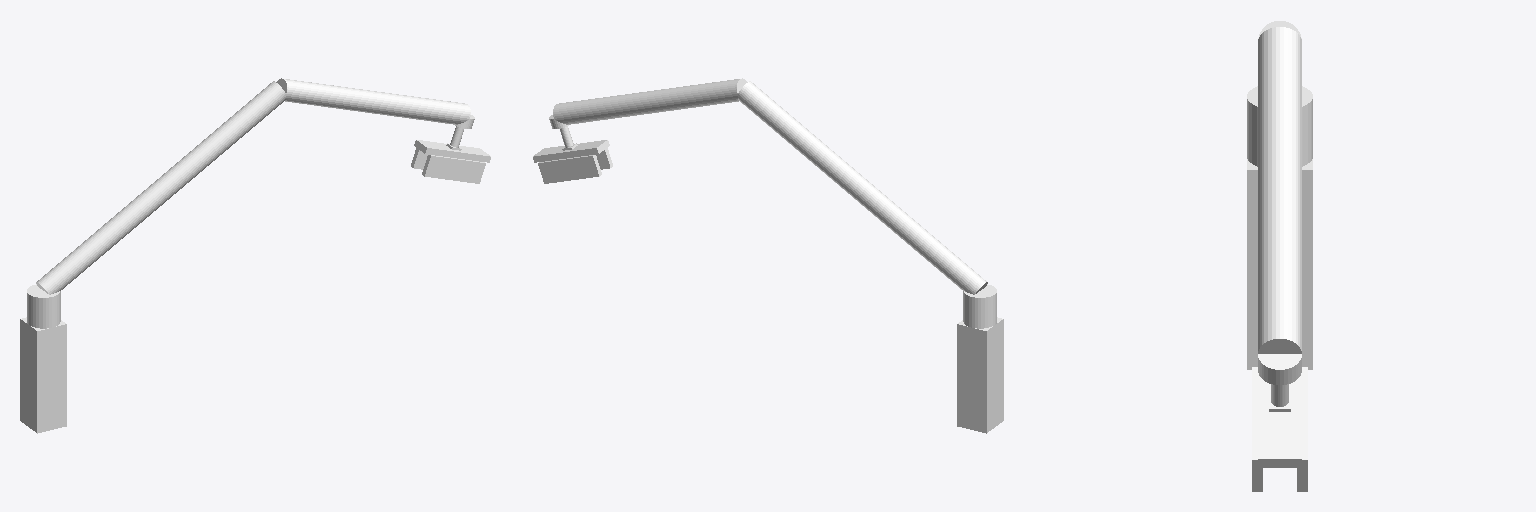
The robot description file, URDF, robot "crane":
<?xml version="1.0"?>
<robot name="crane">

  <material name="white">
    <color rgba="1 1 1 1"/>
  </material>

	<!-- Arm of the crane -->

	<link name="base_link">
		<visual>
			<geometry>
				<box size="1.5 1.5 5"/>
			</geometry>
			<origin xyz="0 0 2.5"/>
			<material name="white"/>
		</visual>
		<collision>
			<geometry>
				<box size="1.5 1.5 5"/>
			</geometry>
			<origin xyz="0 0 2.5"/>
		</collision>
		
	</link>

	
	<joint name="base_to_link1" type="continuous">
		<axis xyz="0 0 1"/>
		<parent link="base_link"/>
		<child link="link1"/>
		<origin xyz="0 0 5"/>
	</joint>
	
	<link name="link1">
		<visual>
			<geometry>
				<cylinder length="1.5" radius="0.75"/>
			</geometry>
			<origin rpy="0 0 0" xyz="0 0 0.75"/>
			<material name="white"/>
		</visual>
		<collision>
			<geometry>
				<cylinder length="1.5" radius="0.75"/>
			</geometry>
			<origin rpy="0 0 0" xyz="0 0 0.75"/>
		</collision>
	</link>
	
	<joint name="link1_to_link2" type="revolute">
		<axis xyz="0 0 1"/>
		<limit effort="1000" upper="-0.175"  lower= "-0.873" velocity="1"/>
		<parent link="link1"/>
		<child link="link2"/>
		<origin rpy="-1.5707963 0 0" xyz="0 0 1.5"/>
	</joint>
	
  
	<link name="link2">
		<visual>
			<geometry>
				<cylinder length="12" radius="0.5"/>
			</geometry>
			<origin rpy="0 -1.5707963 0" xyz="6 0 0"/>
			<material name="white"/>
		</visual>
		<collision>
			<geometry>
				<cylinder length="12" radius="0.5"/>
			</geometry>
			<origin rpy="0 -1.5707963 0" xyz="6 0 0"/>
		</collision>
	</link>
	
	<joint name="Link2_to_link3" type="revolute">
		<axis xyz="0 0 1"/>
		<limit effort="1000" lower="0" upper = "1.5707963" velocity="1"/>
		<parent link="link2"/>
		<child link="link3"/>
		<origin xyz="12 0 0"/>
	</joint>
	
	<link name="link3">
		<visual>
			<geometry>
				<cylinder length="2" radius="0.5"/>
			</geometry>
			<origin rpy="0 -1.5707963 0" xyz="1 0 0"/>
			<material name="white"/>
		</visual>
		<collision>
			<geometry>
				<cylinder length="2" radius="0.5"/>
			</geometry>
			<origin rpy="0 -1.5707963 0" xyz="1 0 0"/>
		</collision>
	</link>

	<joint name ="Link3_to_Link4" type="revolute">
		<axis xyz="0 0 1"/>
		<limit effort="1000" lower="0.175" upper="1.5707963" velocity = "1"/>
		<parent link="link3"/>
		<child link="link4"/>
		<origin xyz="2 0 0"/>
	</joint>
	
	<link name ="link4">
		<visual>
			<geometry>
				<cylinder length="10" radius="0.5"/>
			</geometry>
			<origin rpy="0 -1.5707936 0" xyz="5 0 0"/>
			<material name="white"/>
		</visual>
		<collision>
			<geometry>
				<cylinder length="10" radius="0.5"/>
			</geometry>
			<origin rpy="0 -1.5707936 0" xyz="5 0 0"/>
		</collision>
	</link>
	
	<joint name="Link4_to_Link5" type="revolute">
		<axis xyz="0 0 1"/>
		<limit effort="1000" lower="-3.14" upper ="0.23" velocity="1"/>
		<parent link="link4"/>
		<child link="link5"/>
		<origin xyz="10 0 0"/>
	</joint>
	
	<link name="link5">
		<visual>
			<geometry>
				<cylinder length="0.5" radius="0.5"/>
			</geometry>
			<origin rpy="-1.5707936 -1.5707936 0" xyz="0 0.25 0"/>
			<material name="white"/>
		</visual>
		<collision>
			<geometry>
				<cylinder length="0.5" radius="0.5"/>
			</geometry>
			<origin rpy="-1.5707936 -1.5707936 0" xyz="0 0.25 0"/>
		</collision>
	</link>

	<joint name="link5_to_link6" type="continuous">
		<axis xyz="0 0 1"/>
		<parent link="link5"/>
		<child link="link6"/>
		<origin rpy="-1.5707936 0 0" xyz="0 0.5 0"/>
	</joint>
	
	<link name="link6">
		<visual>
			<geometry>
				<cylinder length="1.0" radius="0.2"/>
			</geometry>
			<origin xyz="0 0 0.5"/>
			<material name="white"/>
		</visual>
		<collision>
			<geometry>
				<cylinder length="1.0" radius="0.2"/>
			</geometry>
			<origin xyz="0 0 0.5"/>
		</collision>
	</link>
	
	<joint name="link6_to_link7" type="revolute">
		<axis xyz="0 1 0"/>
		<limit effort="1000" lower="-0.05" upper ="0.05" velocity="1"/>
		<parent link="link6"/>
		<child link="link7"/>
		<origin xyz="0 0 1"/>
	</joint>

	<link name="link7">
		<visual>
			<geometry>
				<box size="0.5 0.5 0.1"/>
			</geometry>
			<origin xyz="0 0 0.05"/>
			<material name="white"/>
		</visual>
		<collision>
			<geometry>
				<box size="0.5 0.5 0.1"/>
			</geometry>
			<origin xyz="0 0 0.05"/>
		</collision>
	</link>

	<link name="link8"/>
	<joint name="link7_to_link8" type="fixed">
        <parent link="link7" />
        <child link="link8" />
        <origin rpy="0 0 0" xyz="0 0 0.1" />
		<axis xyz="0 0 0"/>
    </joint>

    <joint name="link8_to_gripper" type="fixed">
        <parent link="link8" />
        <child link="gripper_base" />
        <origin rpy="0 0 0" xyz="0 0 0" />
    </joint>
	<!-- Start of gripper -->

	<link name="gripper_base">
		<visual>
			<geometry>
				<box size="3.5 1 0.3"/>
			</geometry>
			<origin xyz="0 0 0.15"/>
			<material name="white"/>
		</visual>
		<collision>
			<geometry>
				<box size="3.5 1 0.3"/>
			</geometry>
			<origin xyz="0 0 0.15"/>
		</collision>
	</link>
	
	<!-- Gripper in the front -->
	
	<joint name="gbase_to_lg" type="prismatic">
		<axis xyz="0 1 0"/>
		<limit effort="1000" lower="0" upper ="0.25" velocity="1"/>
		<parent link="gripper_base"/>
		<child link="lgripper"/>
		<origin  xyz="0 -0.5 0.3"/>
	</joint>

	<link name="lgripper">
		<visual>
			<geometry>
				<box size="3 0.25 1"/>
			</geometry>
			<origin xyz="0 0 0.5"/>
			<material name="white"/>
		</visual>
		<collision>
			<!-- <geometry>
				<box size="1 0.15 0.5"/>
			</geometry>
			<origin xyz="0.5 0 0"/> -->
			<geometry>
				<box size="3 0.25 1"/>
			</geometry>
			<origin xyz="0 0 0.5"/>			
		</collision>
	</link>

	

	<joint name="gbase_to_rg" type="prismatic">
		<axis xyz="0 -1 0"/>
		<limit effort="1000" lower="0" upper ="0.25" velocity="1"/>
		<parent link="gripper_base"/>
		<child link="rgripper"/>
		<origin xyz="0 0.5 0.3"/>
	</joint>

	<link name="rgripper">
		<visual>
			<geometry>
				<box size="3 0.25 1"/>
			</geometry>
			<origin xyz="0 0 0.5"/>
			<material name="white"/>
		</visual>
		<collision>
			<!-- <geometry>
				<box size="0.15 1 0.5"/>
			</geometry>
			<origin xyz="0 0.5 0"/> -->
			<geometry>
				<box size="3 0.25 1"/>
			</geometry>
			<origin xyz="0 0 0.5"/>			
		</collision>
	</link>
</robot>

--- What the picture shows (computed from the rendered views, not written in the file) ---
3 views of the same robot in one strip: view 1: azimuth 30°, elevation 25°; view 2: azimuth 150°, elevation 25°; view 3: azimuth 270°, elevation 25° (orthographic).
Model crane with 12 links and 11 joints (5 revolute, 2 continuous, 2 prismatic, 2 fixed), rooted at base_link, posed joints at zero except 2 at the middle of their limits (link1_to_link2 = -0.524, Link3_to_Link4 = 0.8729).
Visible links, largest first — view 1: link2, base_link, link4, rgripper, link1, link3, gripper_base; view 2: link2, base_link, link4, lgripper, link1, link3, gripper_base; view 3: link4, base_link, gripper_base, link1, link5, lgripper, rgripper.
Link boxes in pixels (x1,y1,x2,y2): link2: [36, 110, 253, 294]; base_link: [20, 317, 66, 433]; link4: [276, 78, 470, 124]; rgripper: [422, 155, 485, 183]; link1: [27, 284, 60, 328]; link3: [240, 81, 285, 126]; gripper_base: [414, 140, 490, 162]; link2: [770, 110, 987, 294]; base_link: [957, 317, 1003, 433]; link4: [553, 78, 747, 124]; lgripper: [538, 155, 601, 183]; link1: [963, 284, 996, 328]; link3: [738, 81, 783, 126]; gripper_base: [533, 140, 609, 162]; link4: [1258, 27, 1301, 353]; base_link: [1247, 159, 1312, 369]; gripper_base: [1258, 373, 1301, 467]; link1: [1247, 86, 1312, 166]; link5: [1258, 354, 1301, 384]; lgripper: [1297, 367, 1307, 491]; rgripper: [1252, 367, 1262, 491].
Size in the robot's own frame: 23.37 by 1.5 by 13.97 metres.
Geometry: primitives only (box / cylinder / sphere), no mesh files.